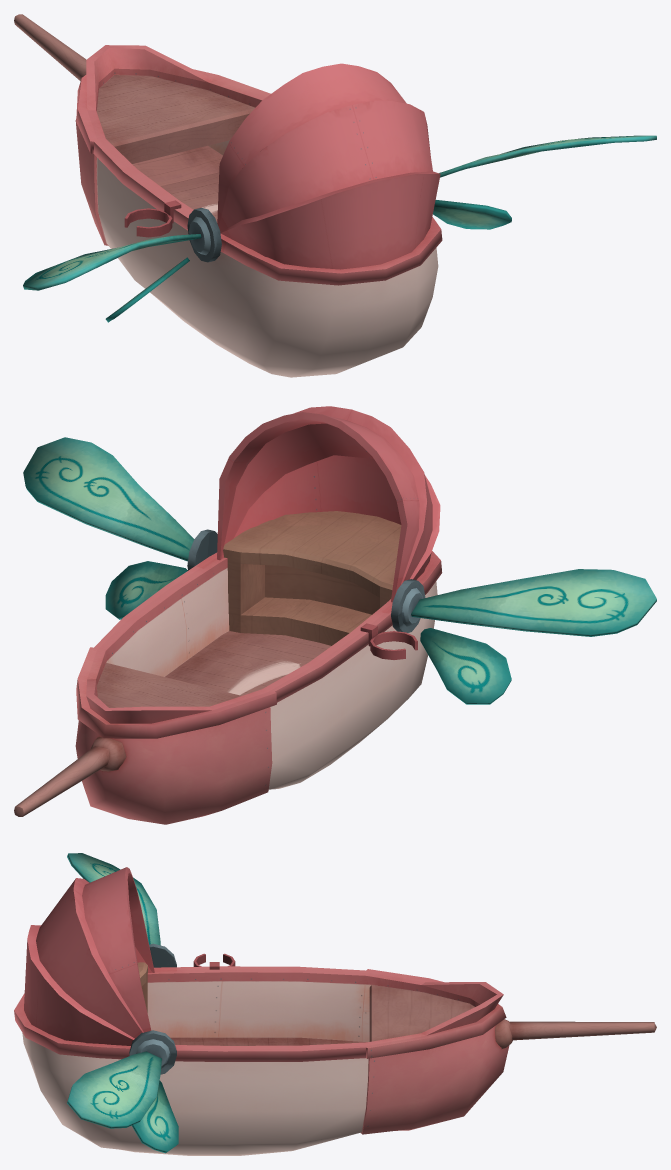
The model's file is Ship_Smol_V2.fbx.
The picture shows the model from 3 angles, top to bottom: view 1: azimuth 30°, elevation 25°; view 2: azimuth 150°, elevation 25°; view 3: azimuth 270°, elevation 25°; orthographic projection. The views are drawn at different scales.
Visible parts, largest first — view 1: Ship, Cover, Deck, UpperWingL, LowerWingR, UpperWingR, Stick, WingsBase, PotHolder, LowerWingL; view 2: Ship, Cover, Table, UpperWingL, UpperWingR, LowerWingL, Deck, Stick, LowerWingR, WingsBase, PotHolder; view 3: Ship, Cover, UpperWingR, Deck, Stick, LowerWingR, UpperWingL, WingsBase.
Boxes of the visible parts, x1,y1,x2,y2 form: Ship: (75,45,442,377); Cover: (217,63,440,269); Deck: (96,75,254,163); UpperWingL: (23,234,201,290); LowerWingR: (433,200,511,229); UpperWingR: (439,135,656,177); Stick: (14,14,86,80); WingsBase: (187,208,221,262); PotHolder: (124,200,181,237); LowerWingL: (105,257,189,322); Ship: (75,551,442,824); Cover: (217,406,440,602); Table: (223,511,401,645); UpperWingL: (411,569,656,636); UpperWingR: (23,437,194,561); LowerWingL: (420,628,511,704); Deck: (96,663,241,707); Stick: (14,737,126,816); LowerWingR: (105,561,187,619); WingsBase: (187,529,425,632); PotHolder: (360,623,417,659); Ship: (14,966,509,1155); Cover: (24,867,154,1045); UpperWingR: (67,1051,161,1128); Deck: (369,985,474,1041); Stick: (495,1019,656,1048); LowerWingR: (132,1080,178,1153); UpperWingL: (67,853,160,945); WingsBase: (129,943,176,1074).
Size of the model in its own units: 504 by 238 by 520.
